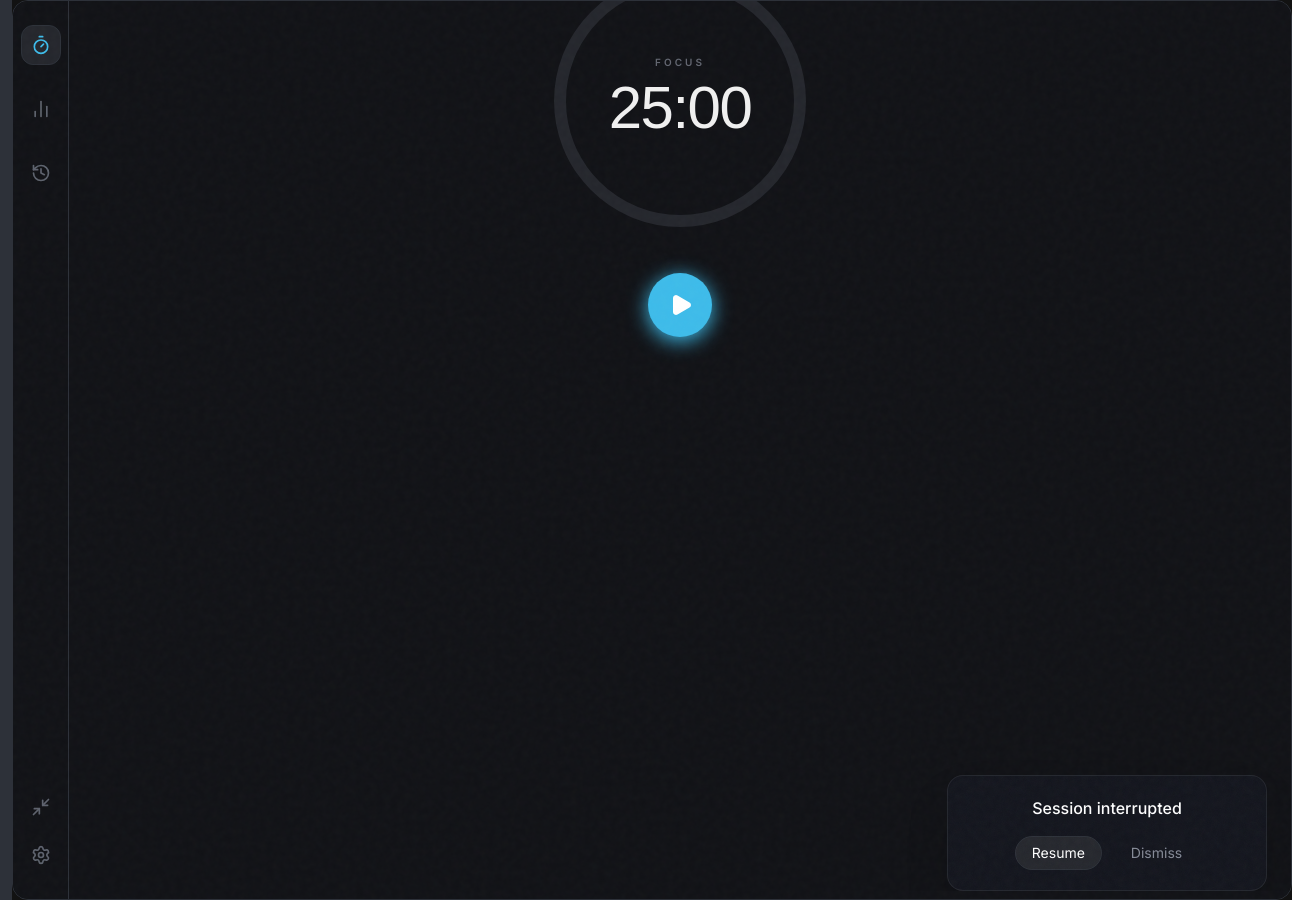
Scenario: App onboarding flow › allows dismissing interrupted-session recovery
(page scrolled)
Click the button "Dismiss" at (1157, 853), box x1=1114 y1=836 x2=1199 y2=870
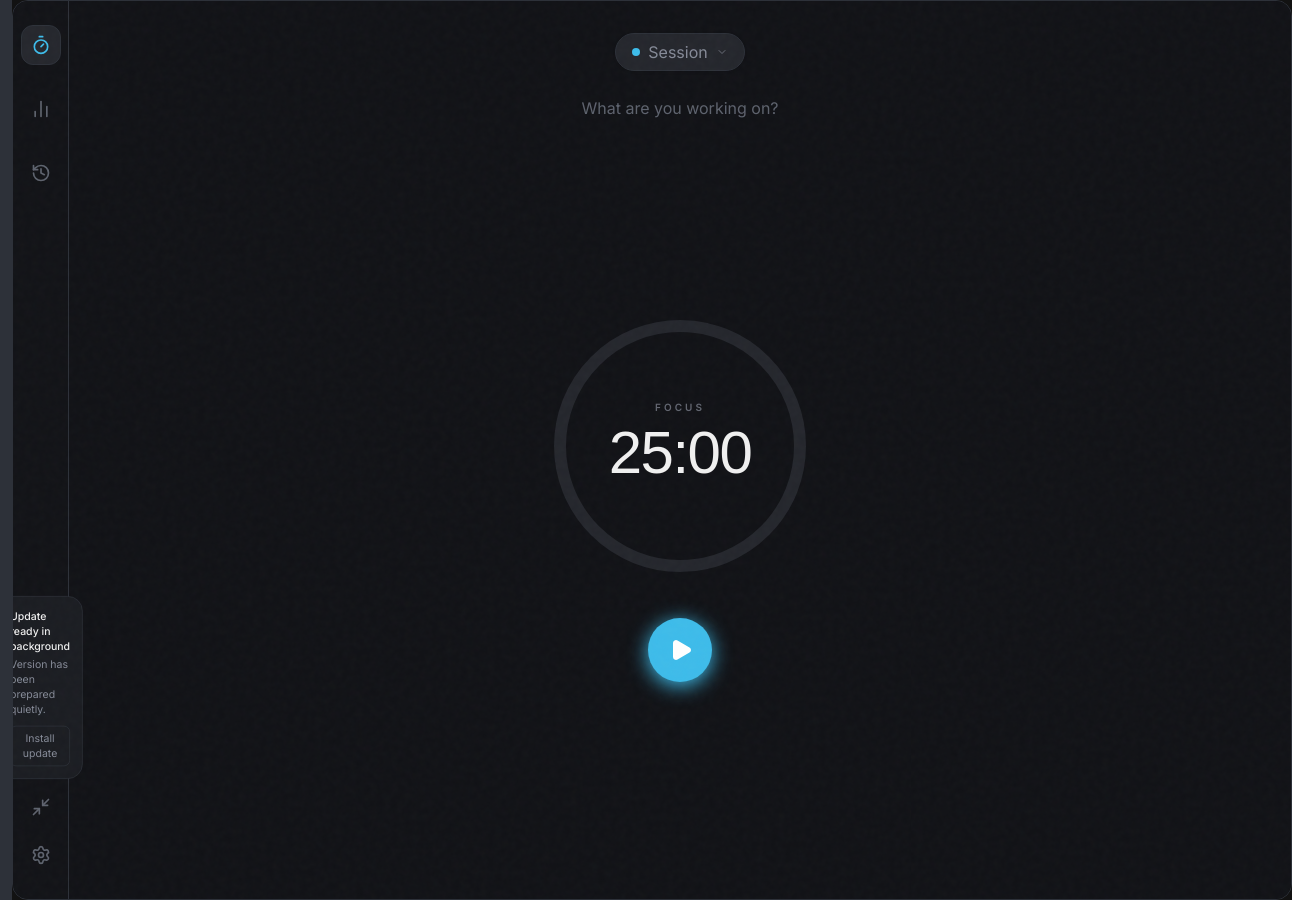
Result: the text "Session interrupted" is gone
